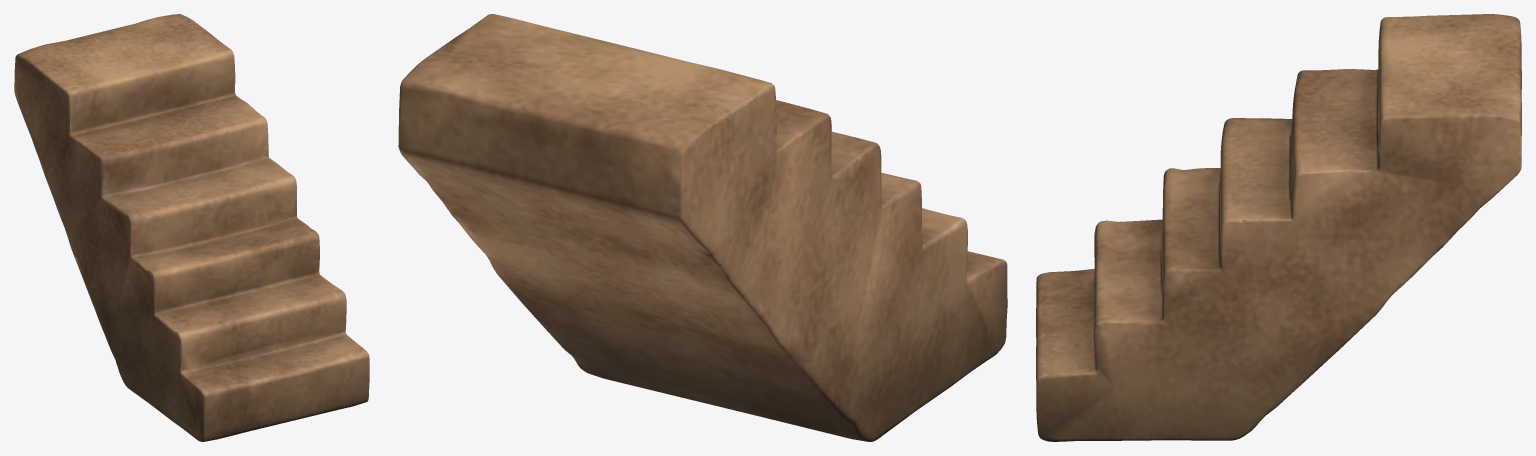
File: chipped-sandstone-straight-staircase-v001.glb
3 renders of one model, left to right at view 1: azimuth 30°, elevation 25°; view 2: azimuth 150°, elevation 25°; view 3: azimuth 270°, elevation 25°, orthographic. The views are drawn at different scales.
Visible parts, largest first — view 1: chipped-sandstone-straight-staircase; view 2: chipped-sandstone-straight-staircase; view 3: chipped-sandstone-straight-staircase.
Part boxes in pixels (x1,y1,x2,y2): chipped-sandstone-straight-staircase: [14, 14, 369, 441]; chipped-sandstone-straight-staircase: [398, 14, 1007, 441]; chipped-sandstone-straight-staircase: [1036, 14, 1521, 441].
Size of the model in its own units: 0.8979 by 1.33 by 1.78.
Materials: 1 (1 with a texture image).
